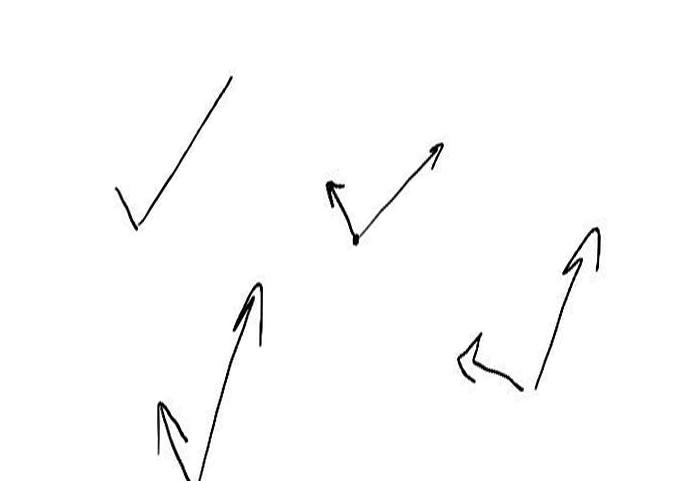arrow: (198, 282, 265, 478), (536, 226, 601, 387), (361, 140, 443, 236), (453, 336, 523, 392), (154, 400, 191, 480), (322, 180, 355, 238)
arrownohead: (140, 74, 232, 221), (116, 185, 136, 230)
